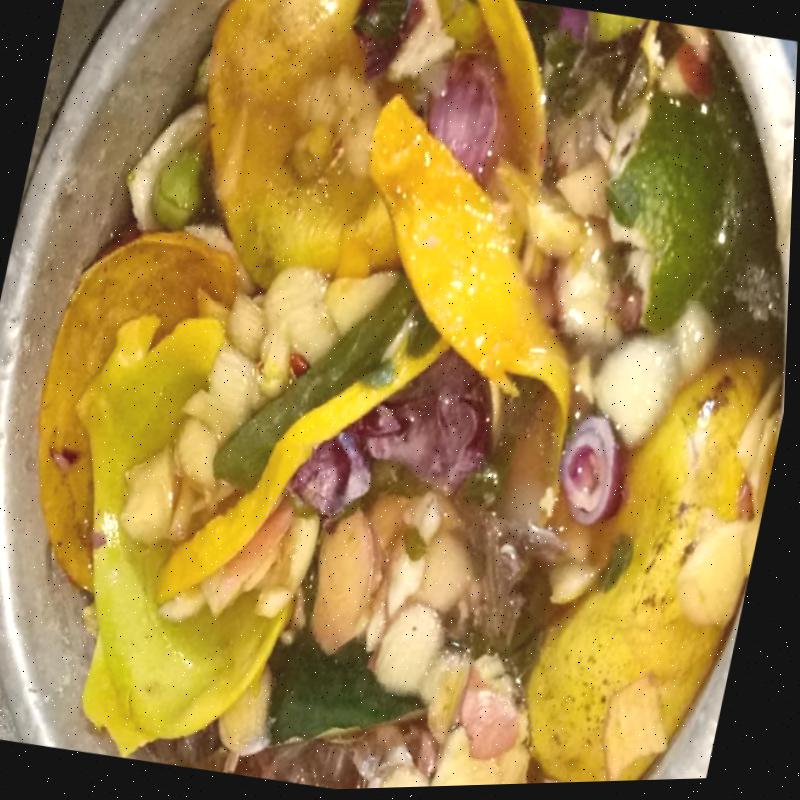fruit peels: (527, 352, 779, 783), (76, 314, 297, 758), (157, 304, 451, 606), (371, 94, 575, 468), (38, 230, 239, 592), (208, 0, 401, 290), (606, 93, 747, 335), (479, 0, 548, 182)
vegetable peels: (213, 274, 418, 490), (290, 348, 499, 522), (429, 33, 509, 181), (560, 411, 627, 526)
